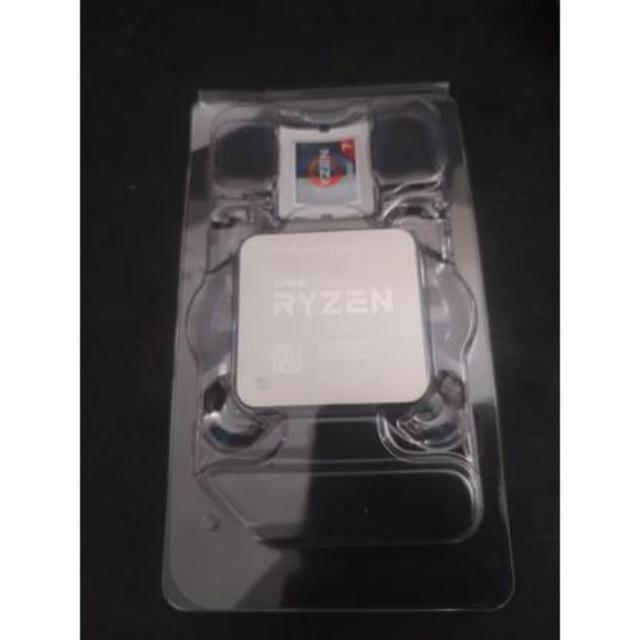CPU: (237, 230, 431, 404)
